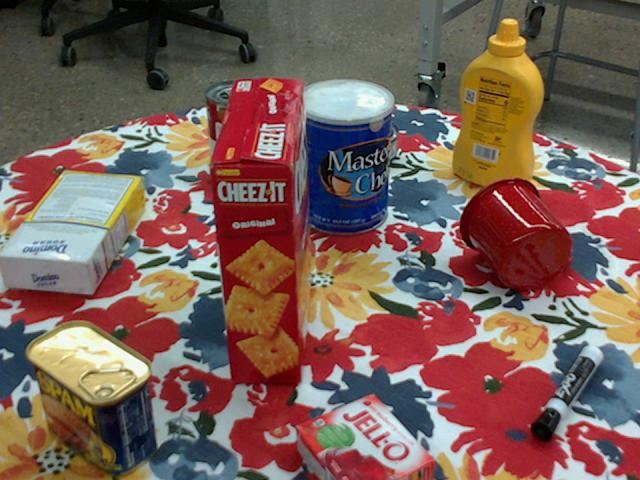cracker_box: (204, 79, 310, 384)
gelatin_box: (296, 393, 438, 479)
large_marker: (533, 343, 604, 438)
master_chef_can: (296, 78, 394, 235)
mug: (458, 176, 574, 290)
mustard_bottle: (452, 20, 542, 191)
potted_meat_can: (22, 320, 155, 475)
sugar_box: (0, 171, 145, 296)
tomato_soup_can: (205, 80, 265, 181)
tuna_fish_can: (332, 116, 401, 168)
